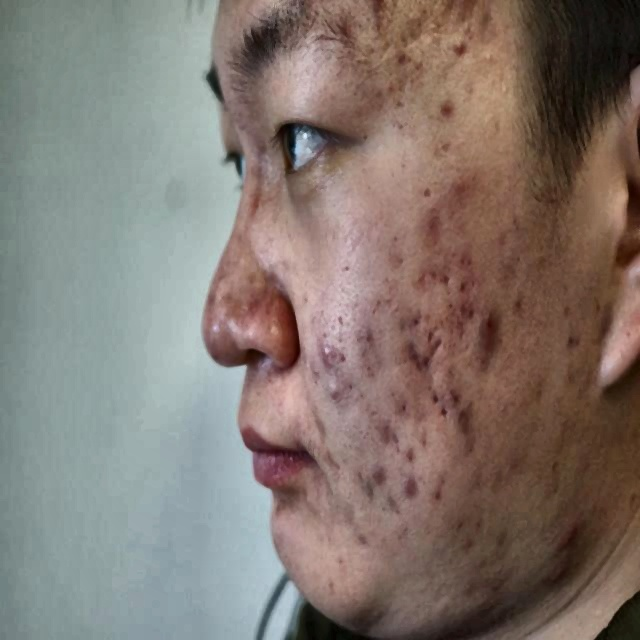pustule: (471, 312, 508, 355), (454, 172, 482, 214), (428, 386, 452, 430), (398, 465, 421, 508), (322, 376, 347, 415), (457, 271, 476, 319), (453, 402, 475, 442), (319, 333, 344, 366), (378, 413, 398, 454), (395, 301, 421, 332), (438, 92, 458, 130), (402, 337, 422, 374), (420, 319, 441, 353), (421, 198, 441, 231), (396, 397, 417, 426), (450, 39, 471, 66), (371, 461, 390, 488), (436, 468, 450, 504), (407, 439, 419, 464)
